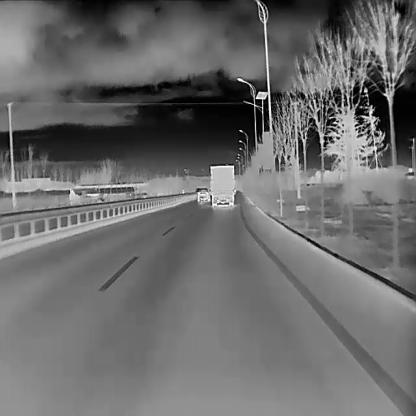car: (210, 164, 236, 206), (196, 187, 210, 201)
